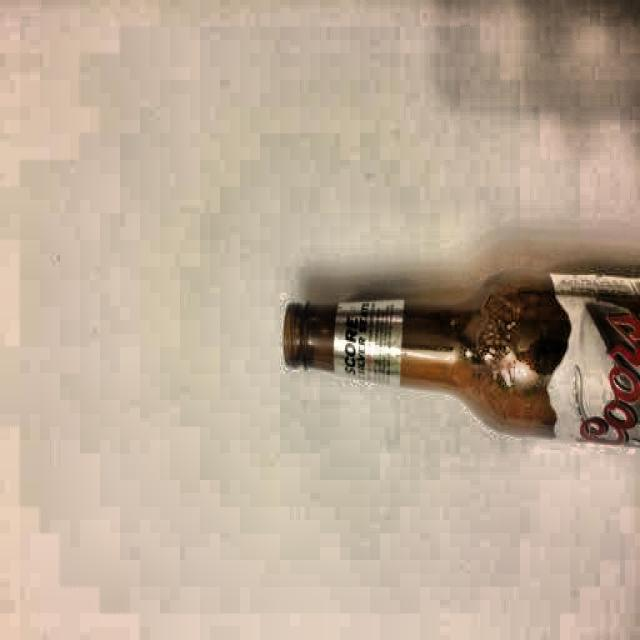glass: (276, 274, 640, 448)
